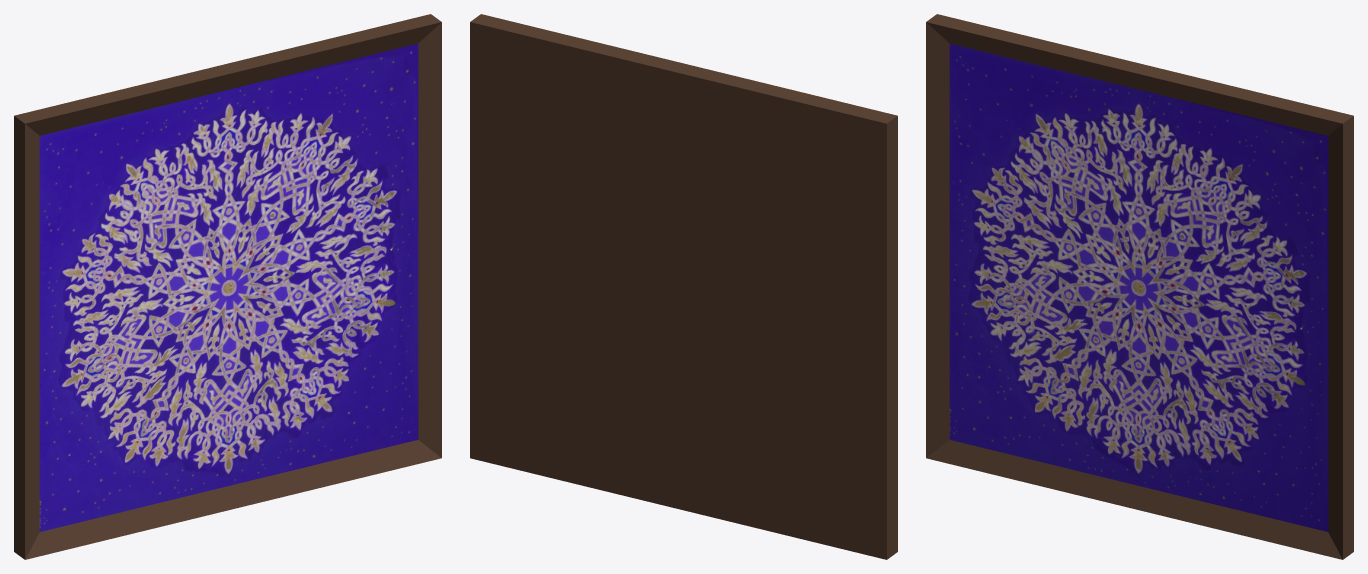
Rendered from slipper-orchids-orchids30-nebula-purple-a1-walnut-tray-v2.glb.
3 renders of one model, left to right at view 1: azimuth 30°, elevation 25°; view 2: azimuth 150°, elevation 25°; view 3: azimuth 330°, elevation 25°, orthographic.
Parts seen in each view (by area): view 1: FramedPrint; view 2: FramedPrint; view 3: FramedPrint.
Part boxes in pixels (left/top/right/bottom): FramedPrint: left=14, top=14, right=441, bottom=559; FramedPrint: left=470, top=14, right=897, bottom=559; FramedPrint: left=926, top=14, right=1353, bottom=559.
Bounding box in the file's own units: 0.655 × 0.655 × 0.03.
Materials: 2 (1 with a texture image).
